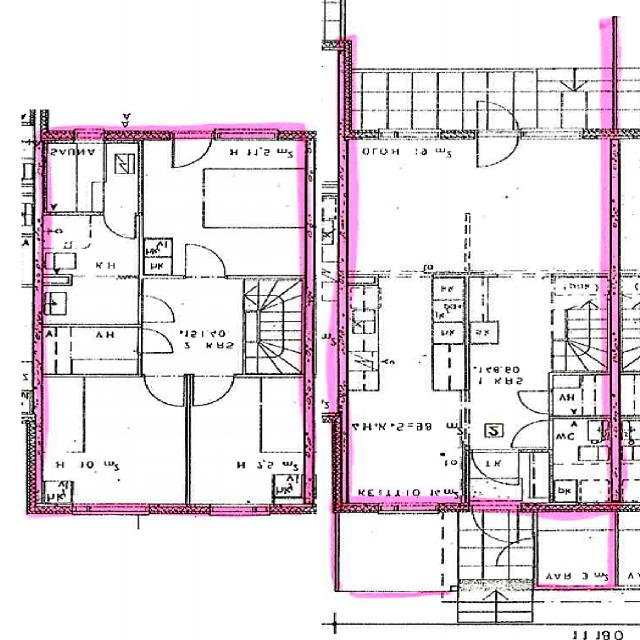door: (473, 503, 519, 546), (476, 98, 518, 140), (173, 130, 215, 172), (472, 448, 518, 486), (476, 130, 518, 171), (185, 245, 226, 279), (194, 373, 233, 406), (146, 373, 184, 405), (512, 419, 554, 446), (498, 537, 539, 564), (139, 295, 180, 322), (139, 328, 177, 353), (104, 212, 136, 239), (519, 391, 553, 413)
